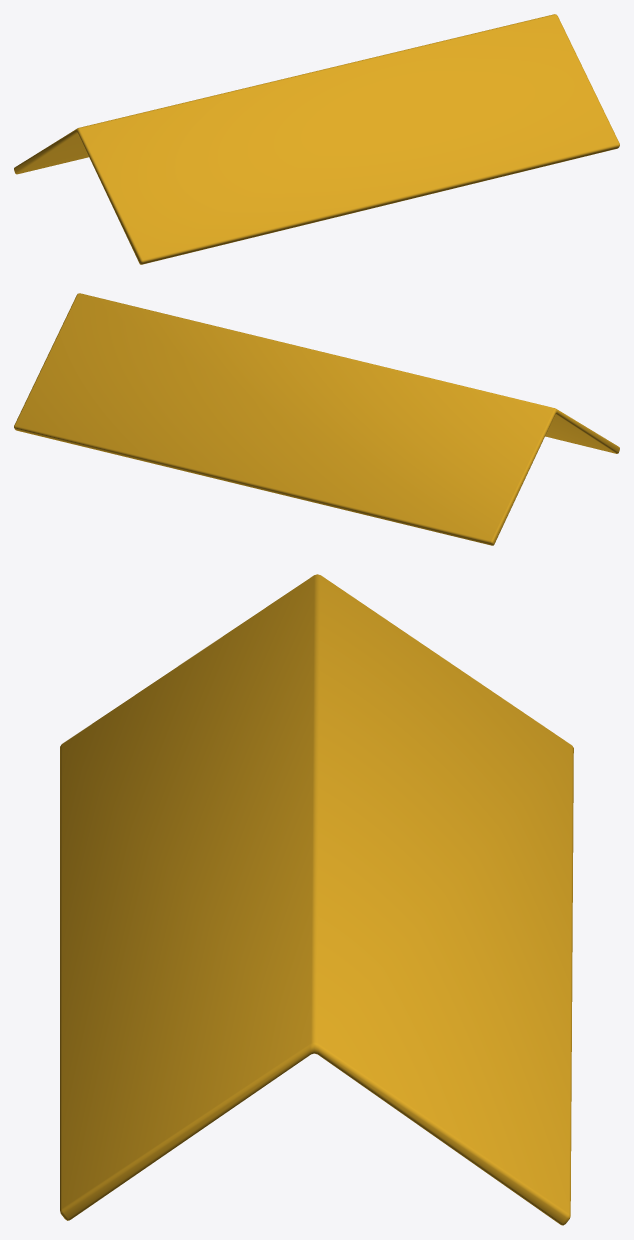
The model's file is FM_H_Doll_BH_Roof_Tiles_001.fbx.
3 views of the same model, one above another, from view 1: azimuth 30°, elevation 25°; view 2: azimuth 150°, elevation 25°; view 3: azimuth 270°, elevation 25° (orthographic). The views are drawn at different scales.
Visible parts, largest first — view 1: FM_H_Doll_BH_Roof_Tiles_001; view 2: FM_H_Doll_BH_Roof_Tiles_001; view 3: FM_H_Doll_BH_Roof_Tiles_001.
Boxes of the visible parts, x1,y1,x2,y2 form: FM_H_Doll_BH_Roof_Tiles_001: (14,14,619,264); FM_H_Doll_BH_Roof_Tiles_001: (14,293,619,545); FM_H_Doll_BH_Roof_Tiles_001: (60,574,573,1225).
Bounding box in the file's own units: 22.16 × 4.12 × 10.28.
